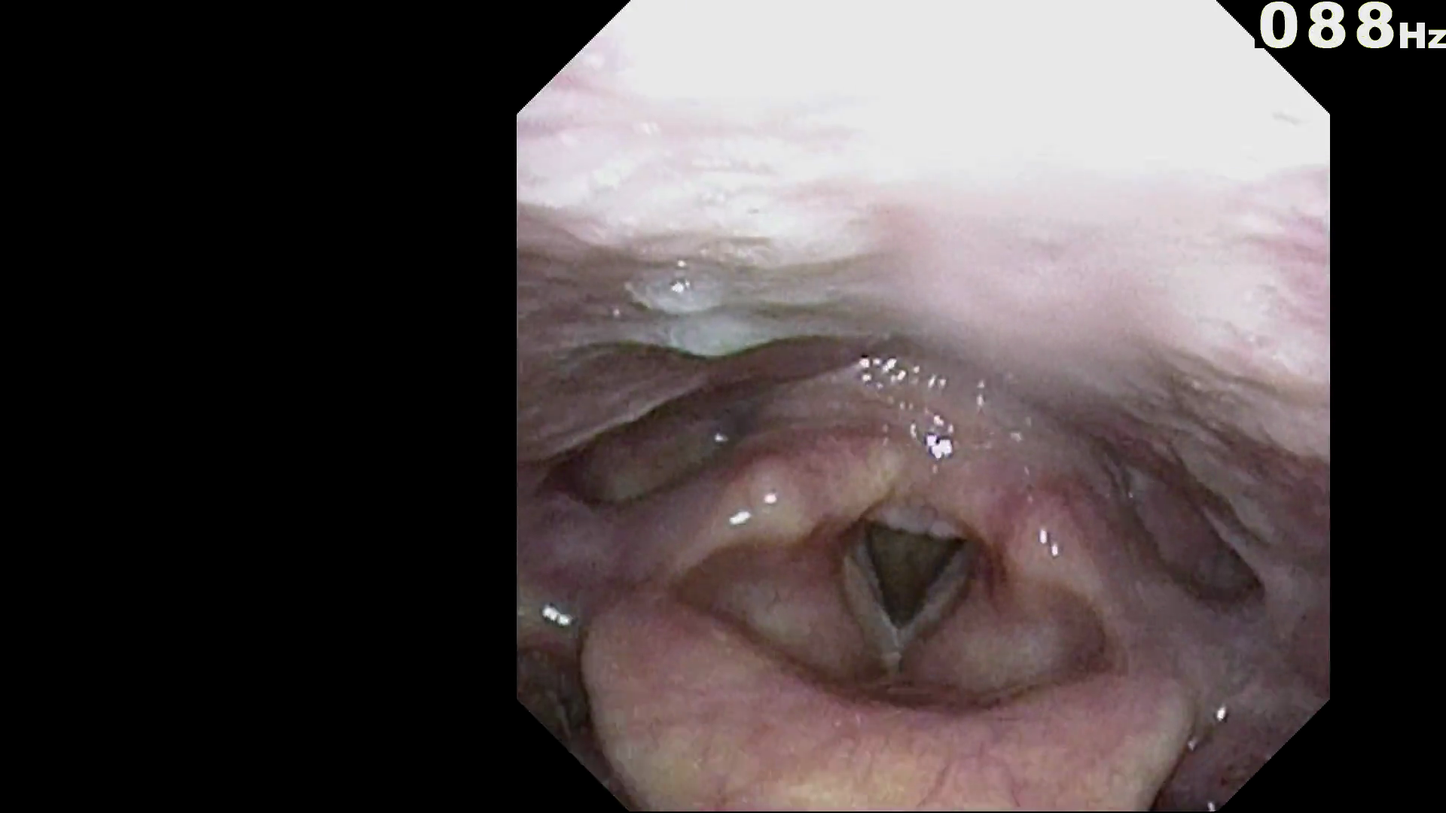epiglottis: (630, 664, 1189, 802)
trachea: (851, 507, 970, 647)
